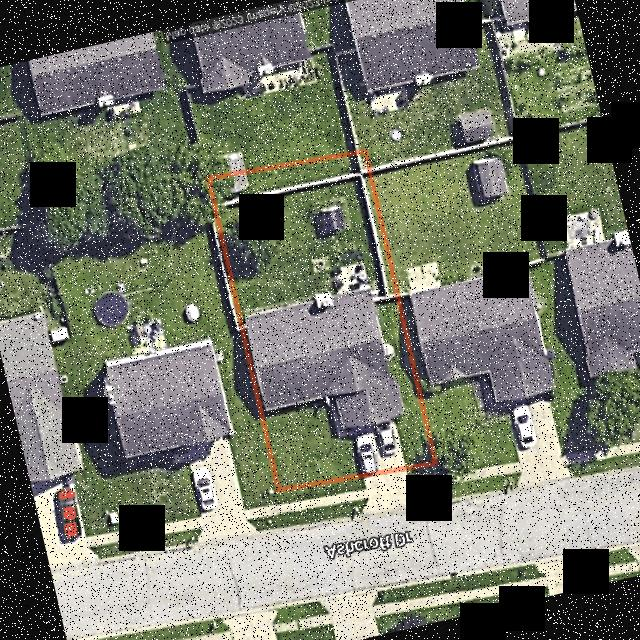Driveway: (350, 416, 404, 473)
Extra Driveway: (359, 469, 420, 515)
Extra Lawn: (278, 497, 366, 527), (274, 477, 365, 503), (409, 483, 443, 503), (405, 464, 437, 480)
Extra Sidewalk: (277, 487, 367, 513), (408, 474, 439, 490)
House: (243, 286, 404, 428)
Other: (331, 261, 369, 294), (314, 204, 345, 232), (368, 281, 393, 301), (311, 254, 329, 271), (382, 341, 394, 360)
Sidewalk: (323, 395, 376, 437)
